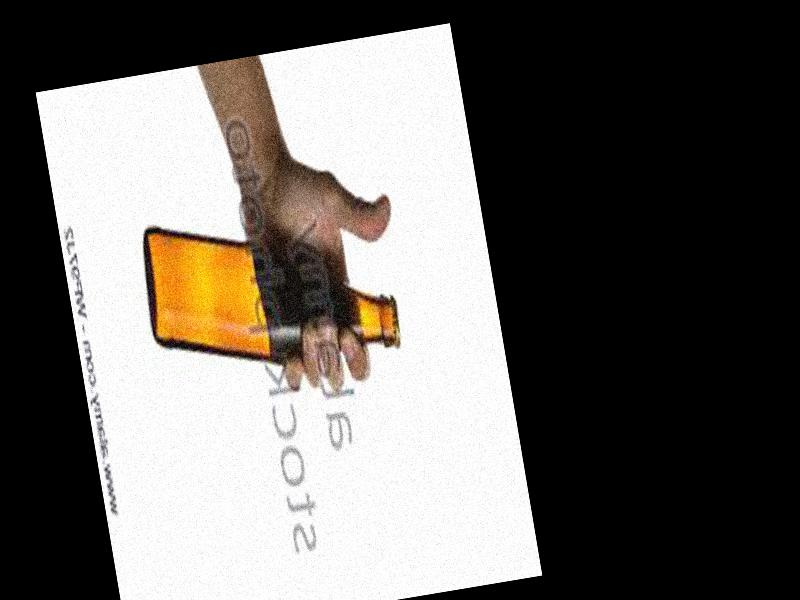Beer: (136, 187, 401, 391)
